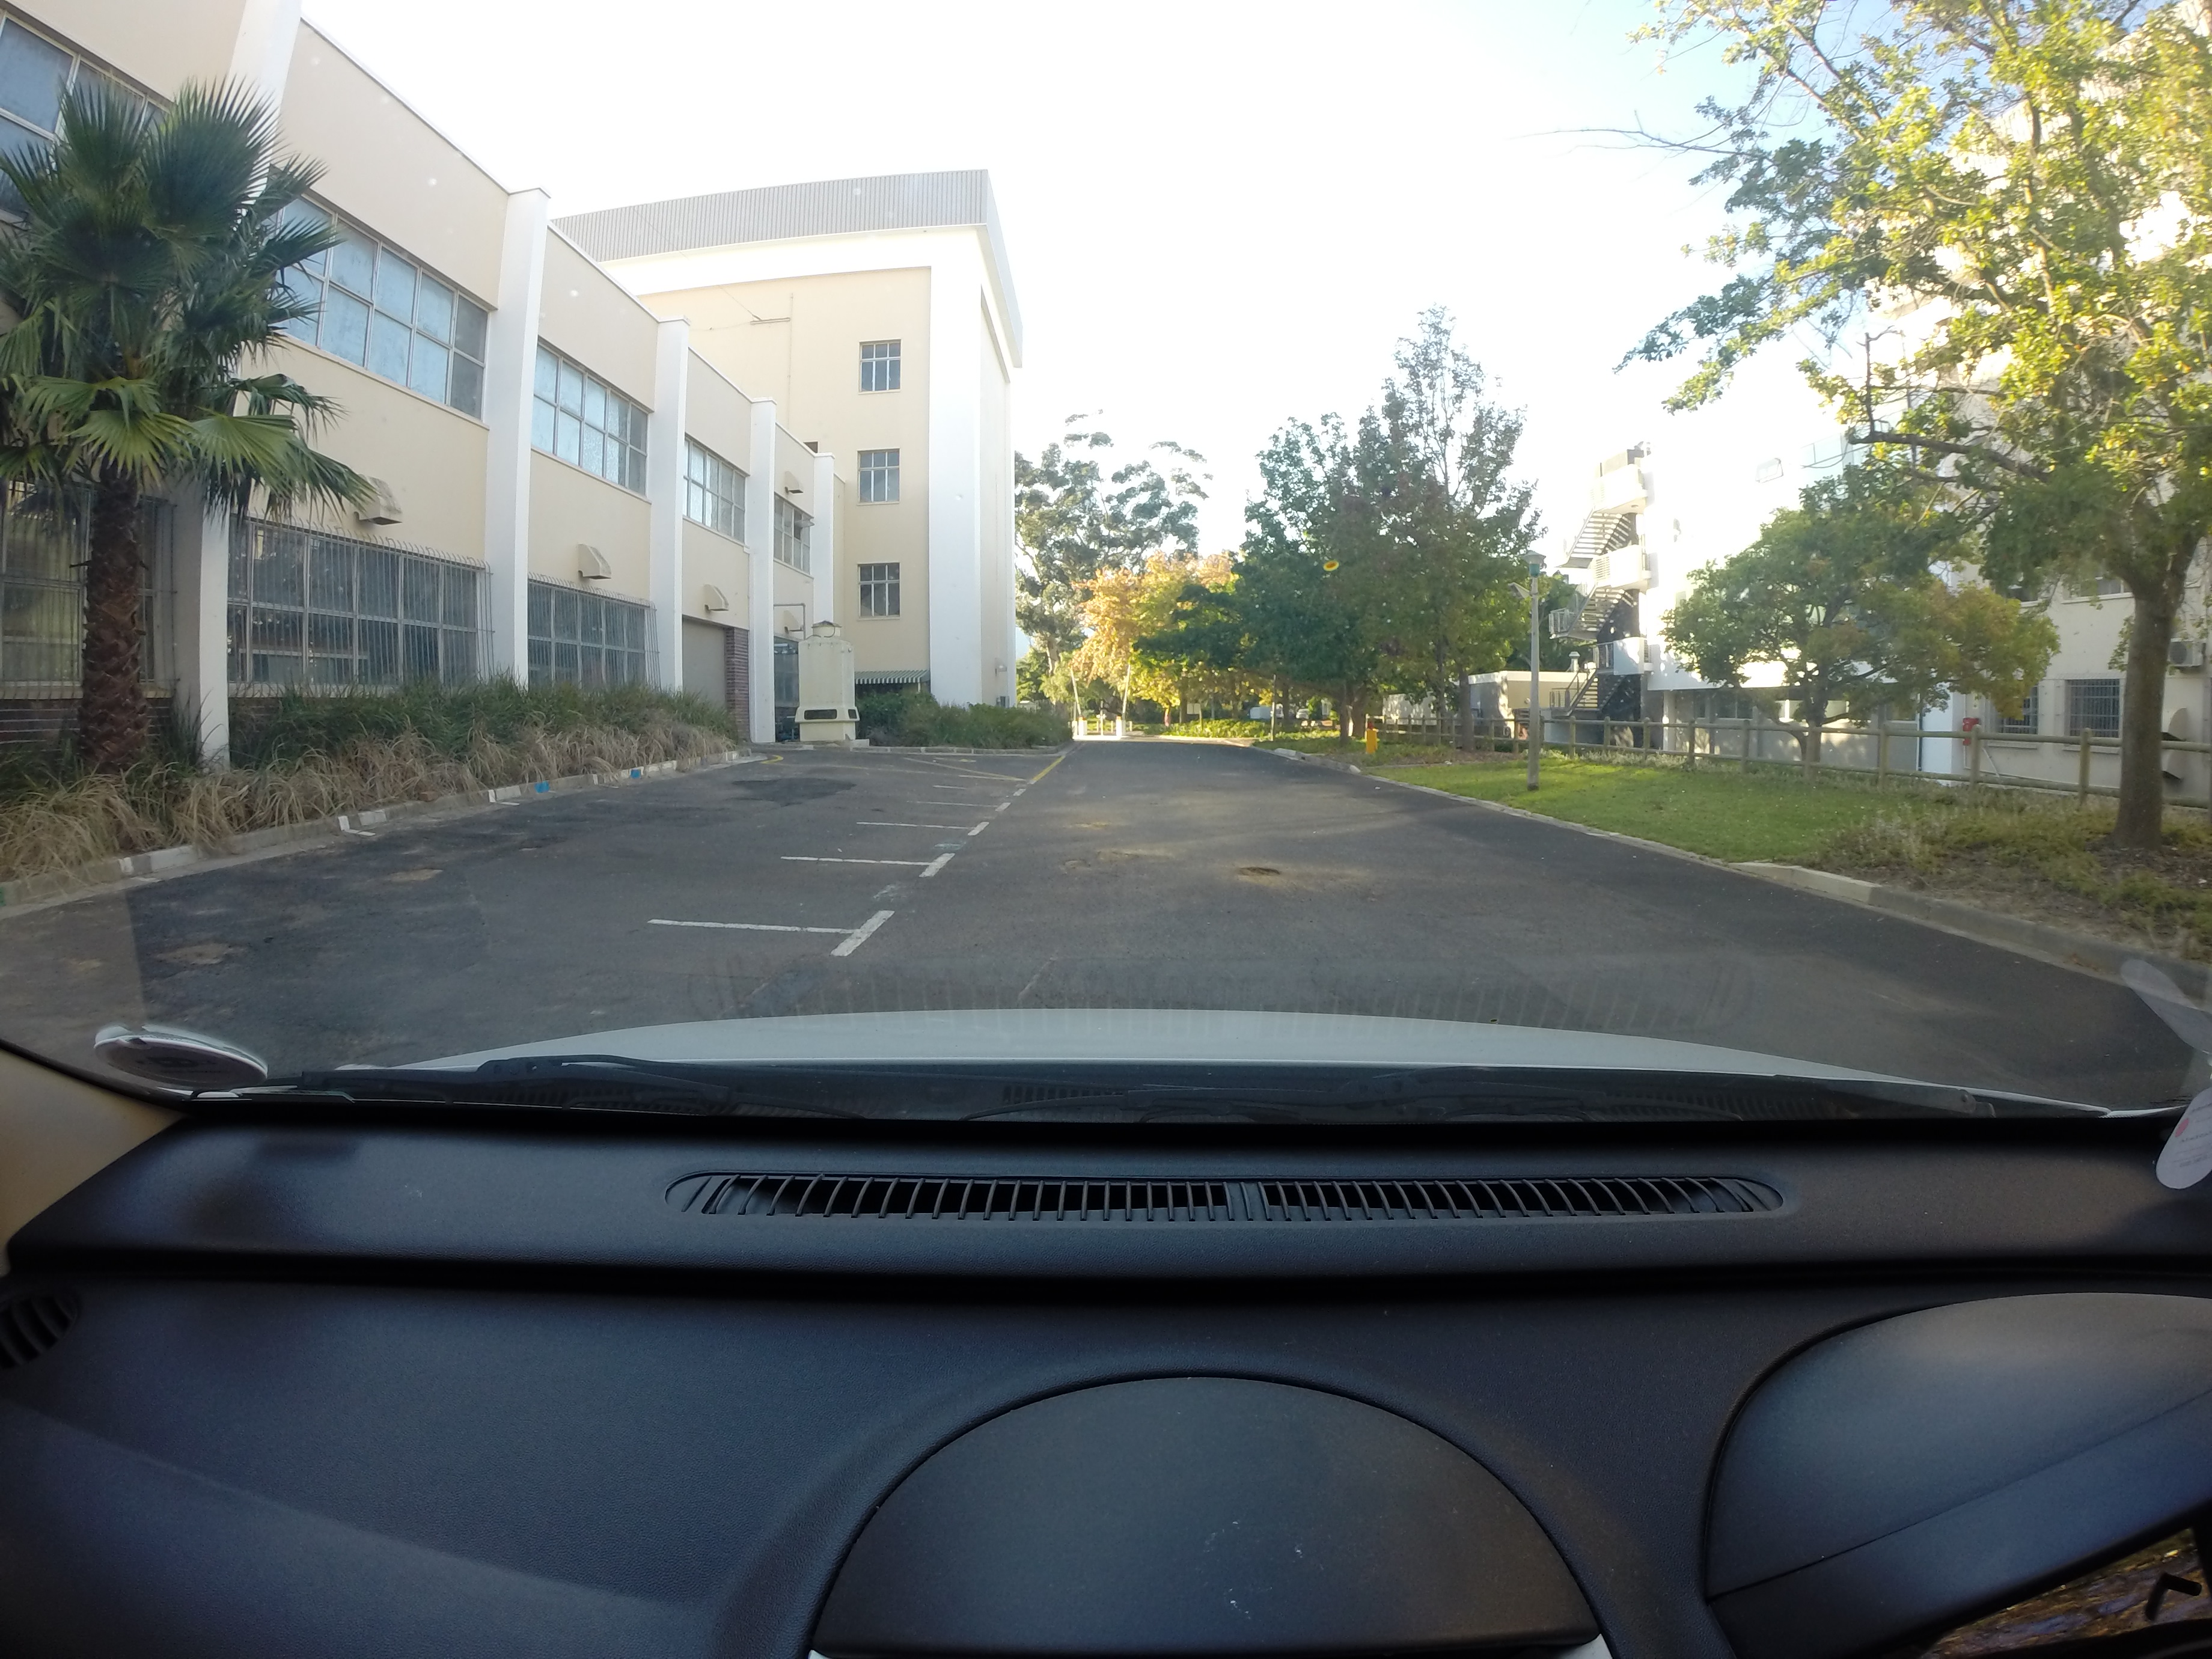pothole: (145, 934, 270, 976), (366, 852, 463, 894), (1211, 857, 1303, 887)
